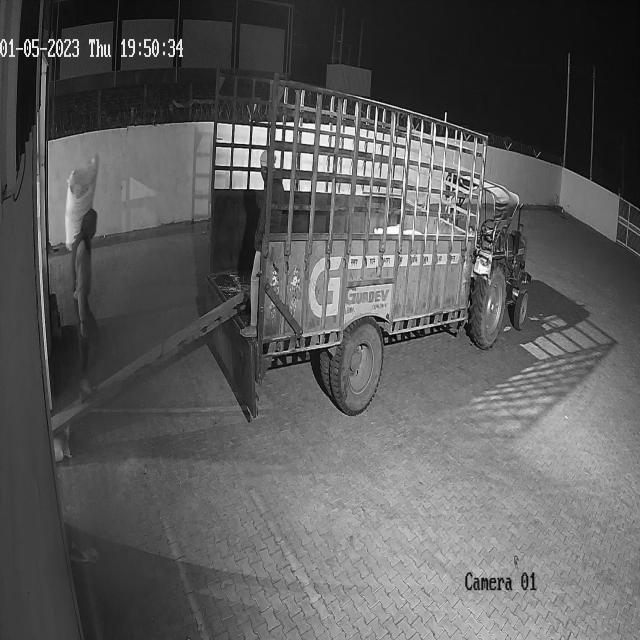sack: (64, 155, 100, 251)
